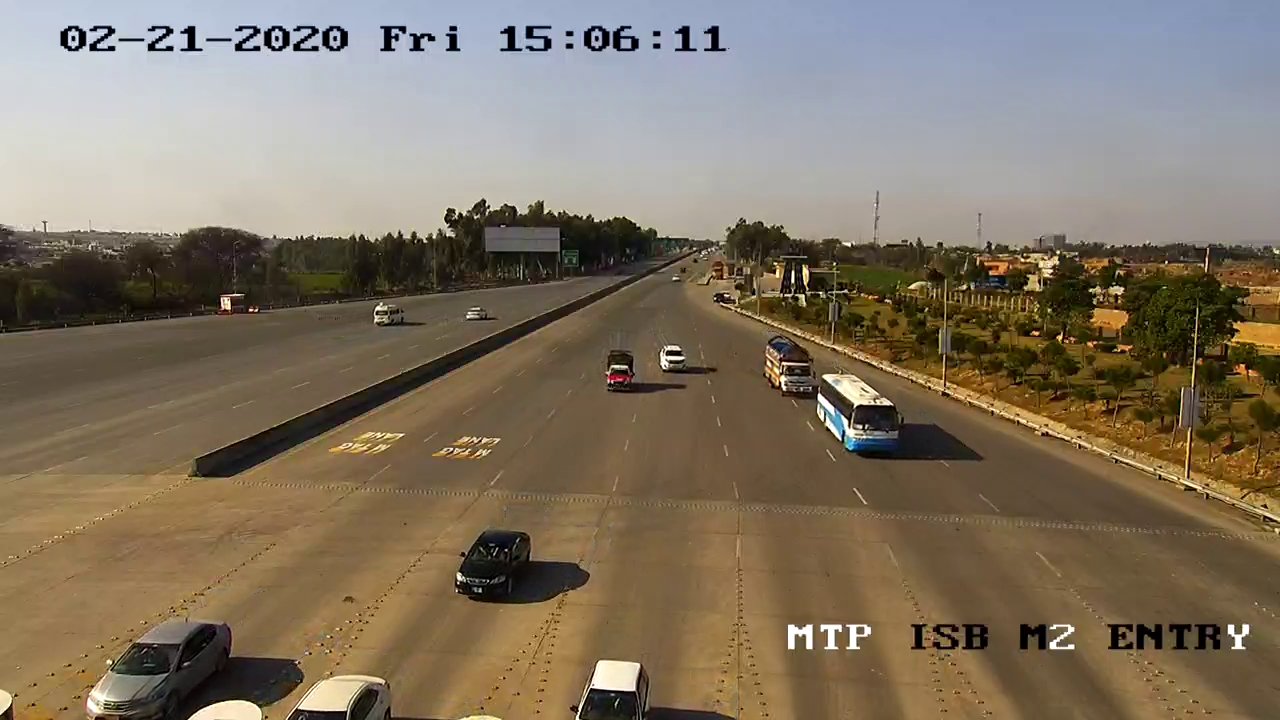f1: (78, 601, 237, 718), (442, 523, 542, 611), (652, 341, 691, 375)
f2: (594, 344, 642, 397)
f4: (804, 368, 913, 462)
f5: (751, 324, 815, 409)
